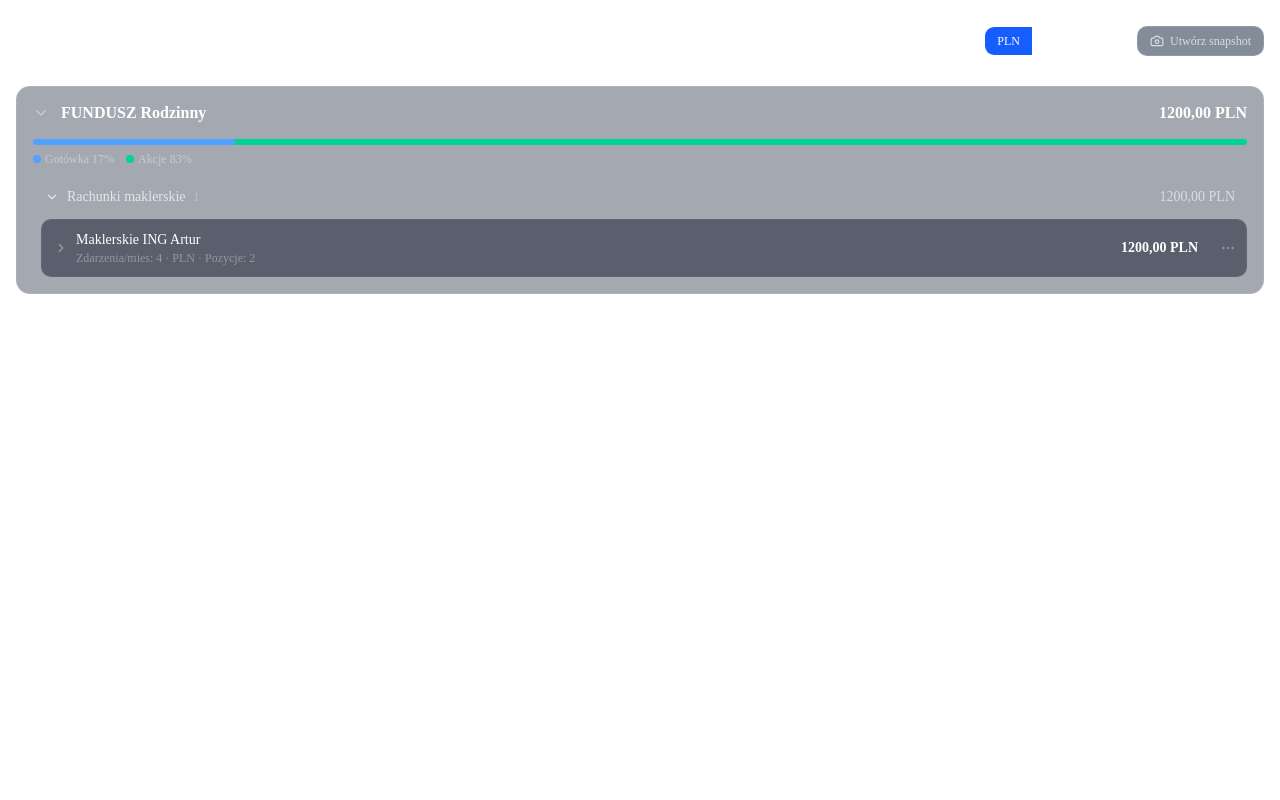
Test: WalletManagerPage › converts CHF brokerage cash subaccounts to the view currency
Click the button with aria-label "Pokaż szczegóły Maklerskie ING Artur": {"x": 138, "y": 240} 42,220 -> 1210,276
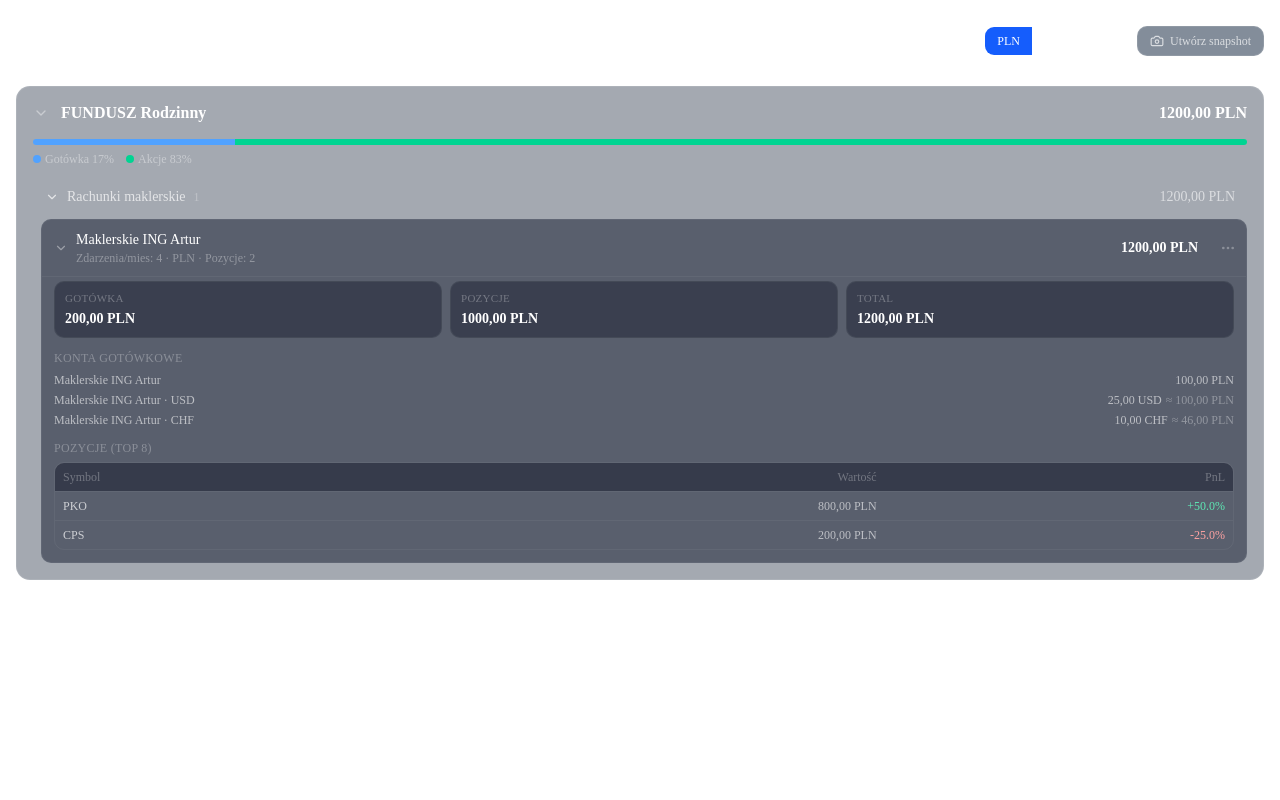
Result: the text "Maklerskie ING Artur · CHF" is shown at 54,412 -> 194,428
Result: the text "10,00 CHF≈ 46,00 PLN" is shown at 1114,412 -> 1234,428
Result: the text "≈ 46,00 PLN" is shown at 1172,412 -> 1234,426
